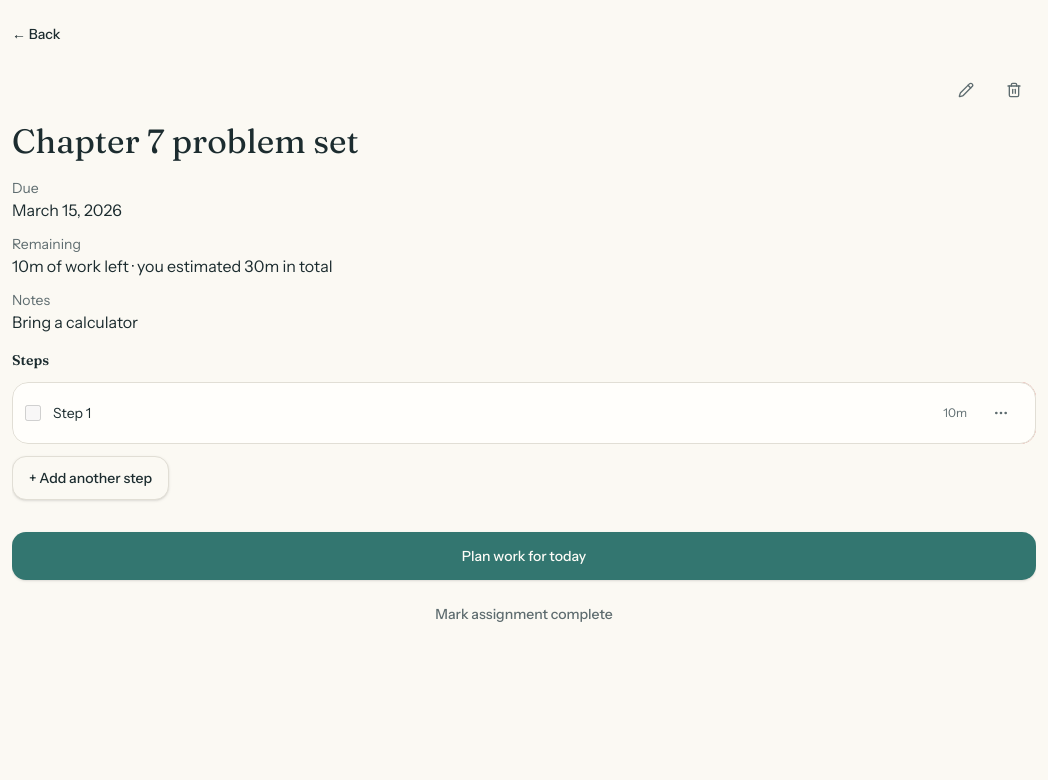
Test case: AssignmentDetailPage › Inline step management (docs/features/assignment-detail-cta-hierarchy.md item 3b) › deletes an incomplete step immediately, with no confirmation, and updates the total effort
Expected: the text "Step 1" is shown, [53,404,91,422]
Click the button named "More actions for Step 1": (1001, 413) [979,391,1023,435]
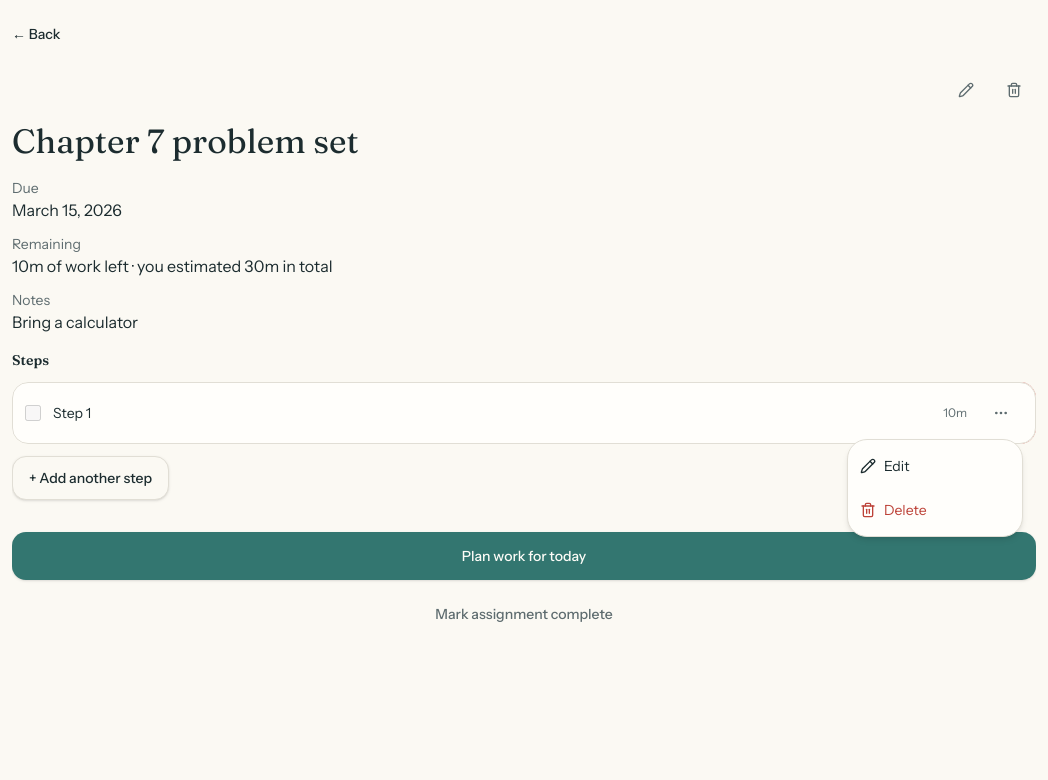
Click the menu item "Delete": (893, 510) [860,501,927,519]
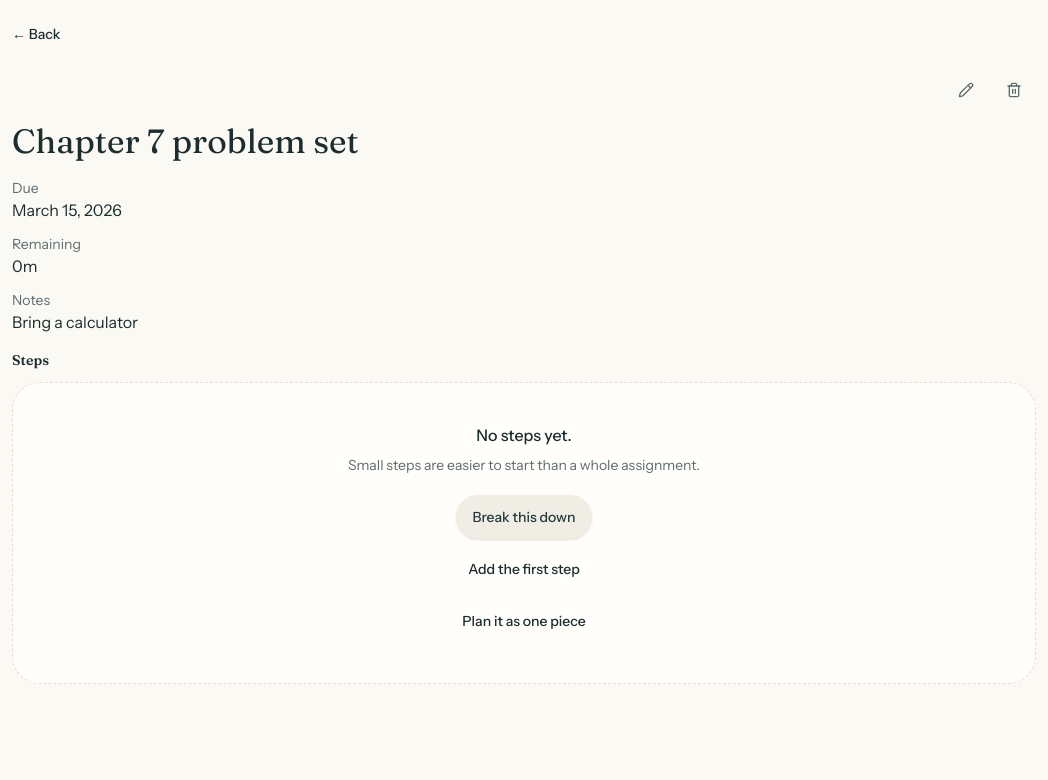
Expected: the text "Step 1" is gone
